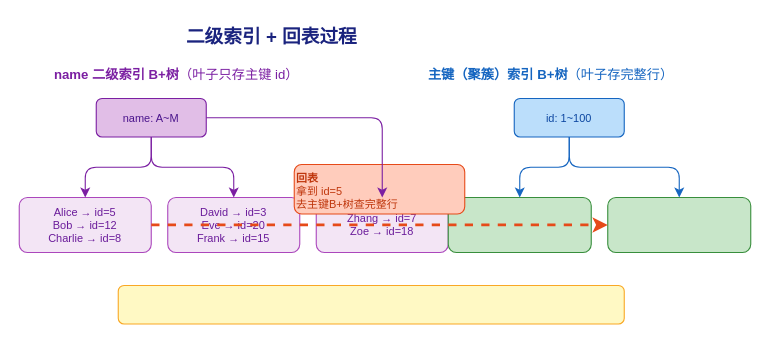
The diagram is 770 pixels wide and 343 high, and some of its shapes have lost their labels. Each missing label, with the box of its shape:
id=3: David,30, david@xx.com: (447, 196, 591, 252)
id=5: Alice,25, alice@xx.com: (607, 196, 751, 252)
⚠ 回表代价 ：每条记录一次独立的 B+树查找（3~4 次磁盘 IO） 查询 1000 行 ≈ 3000~4000 次磁盘 IO: (117, 284, 624, 324)
